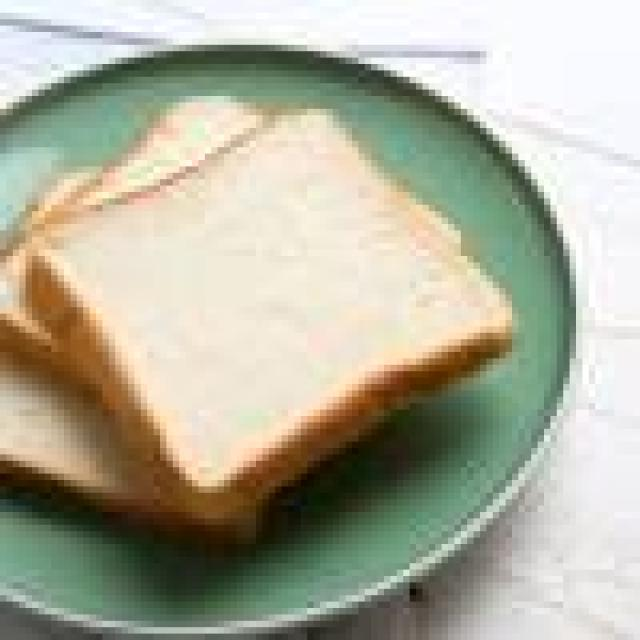Bread: (48, 112, 504, 484)
